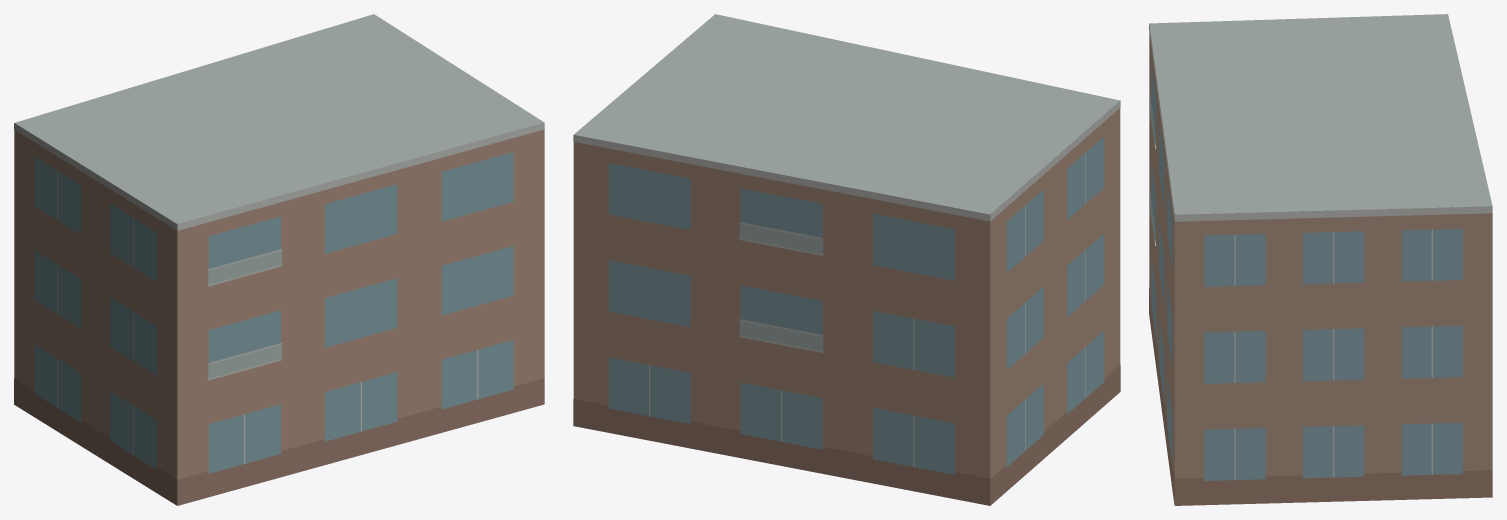
Rendered from survey-upis-32736028.glb.
3 views of the same model, side by side, from view 1: azimuth 30°, elevation 25°; view 2: azimuth 150°, elevation 25°; view 3: azimuth 270°, elevation 25° (orthographic). The views are drawn at different scales.
Parts seen in each view (by area): view 1: survey-upis-32736028.tmp; view 2: survey-upis-32736028.tmp; view 3: survey-upis-32736028.tmp.
Boxes of the visible parts, x1=… form: survey-upis-32736028.tmp: x1=14, y1=14, x2=544, y2=505; survey-upis-32736028.tmp: x1=573, y1=14, x2=1120, y2=505; survey-upis-32736028.tmp: x1=1149, y1=14, x2=1492, y2=505.
Bounding box in the file's own units: 15.1 × 10.2 × 10.92.
